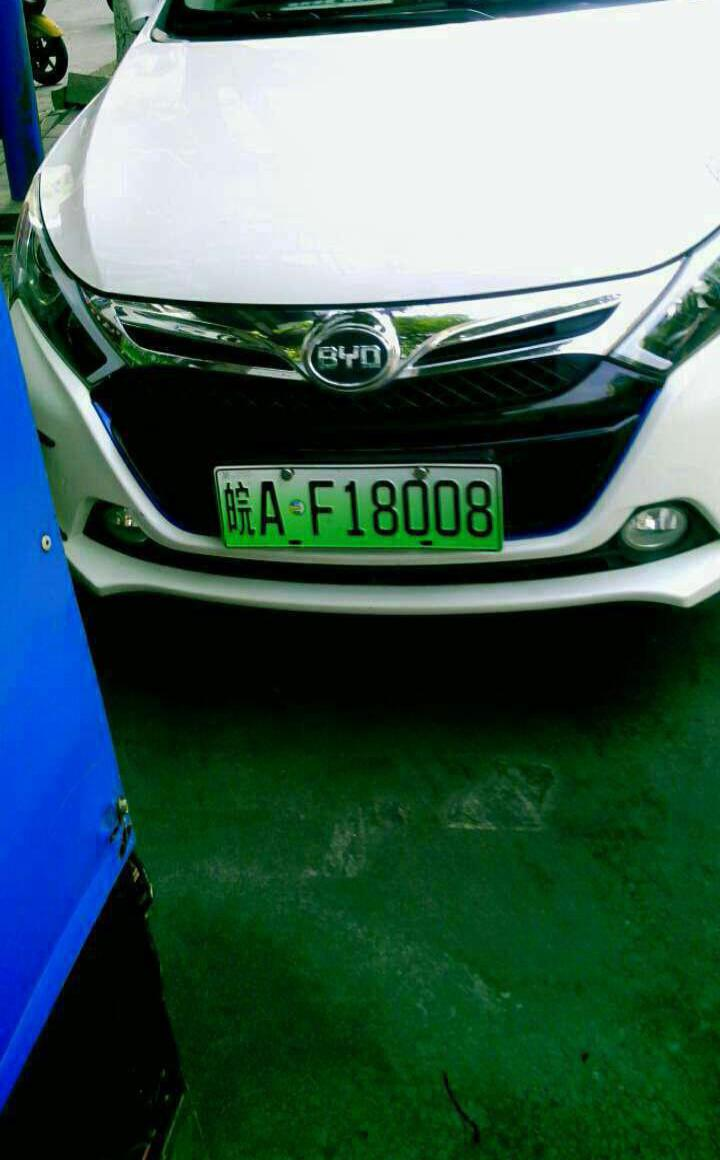car_id: (215, 468, 501, 547)
